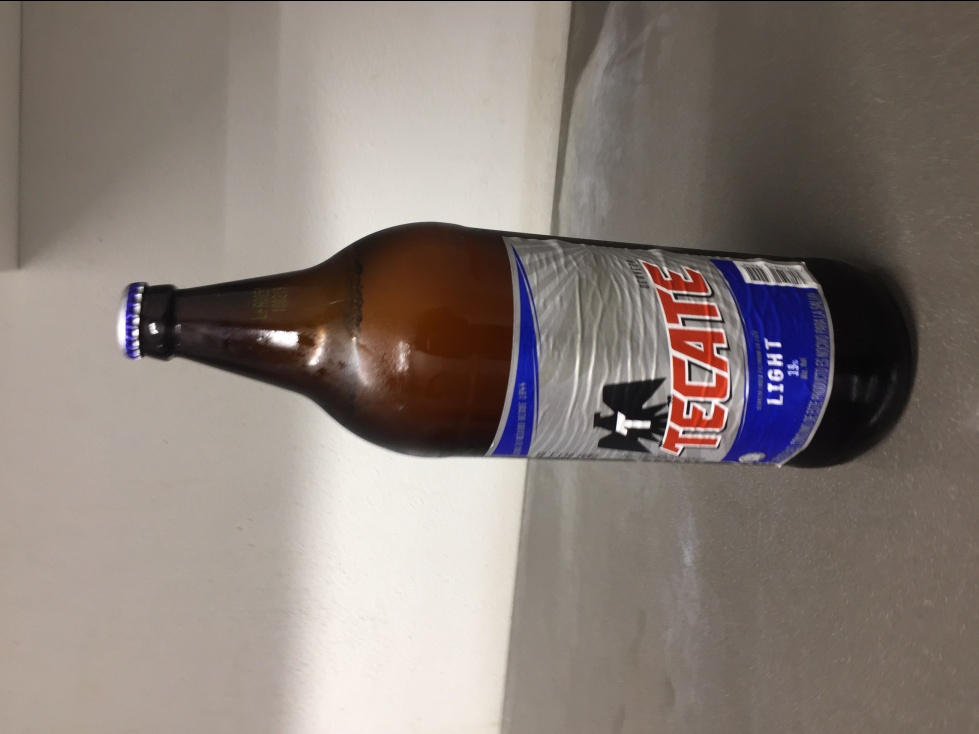tecateC: (117, 220, 914, 471)
